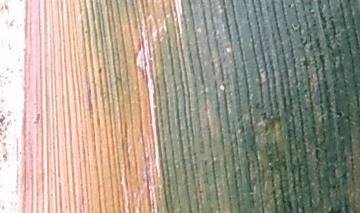tarspot: (96, 65, 105, 77)
